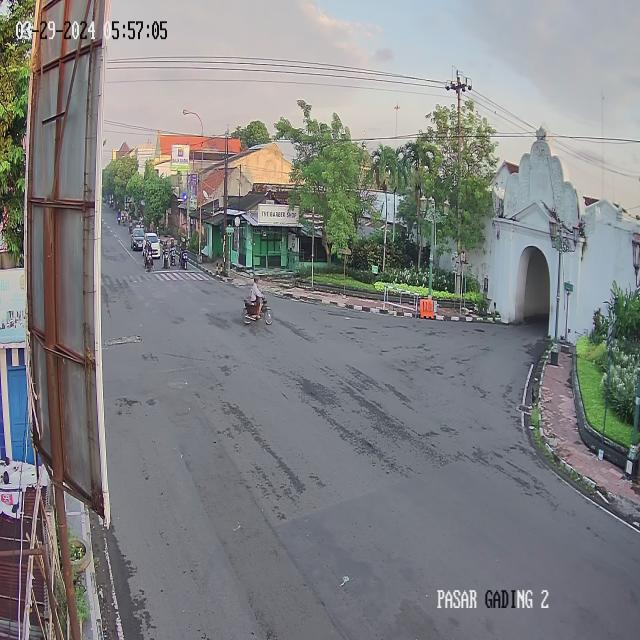car: (141, 232, 162, 258), (130, 226, 146, 252)
motorcycle: (242, 275, 275, 329), (145, 238, 155, 274), (178, 236, 188, 271), (161, 238, 171, 271), (170, 236, 177, 267), (144, 238, 150, 266), (121, 208, 129, 228), (128, 216, 133, 235), (156, 225, 161, 241), (117, 207, 121, 227)
